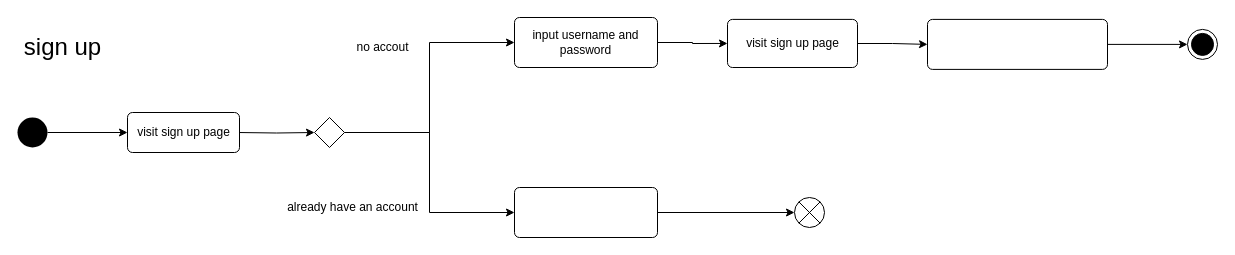
The diagram is 1235 pixels wide and 255 high, and some of its shapes have lost their labels. The shapes that lost their labels are listed below. From the top down, each one's centre as x and y in pixels, then its label:
the point at 1017,43: input username, password, and confirm password
the point at 586,212: visit sign in page
